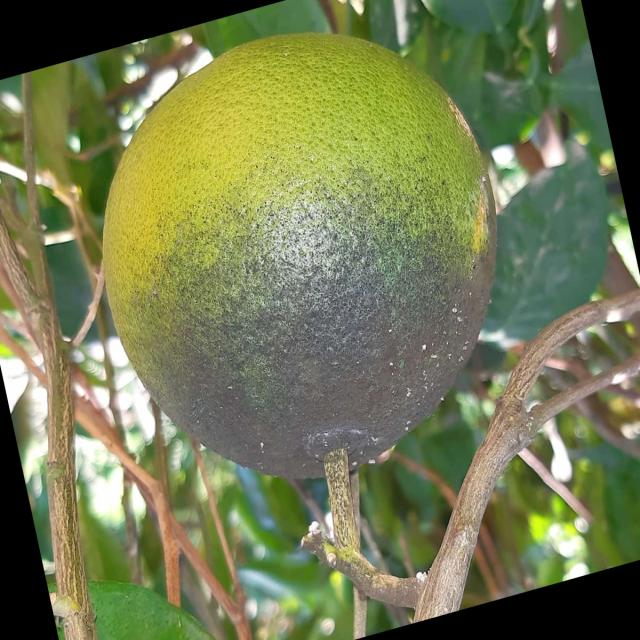Sooty Mold: (101, 31, 498, 480)
